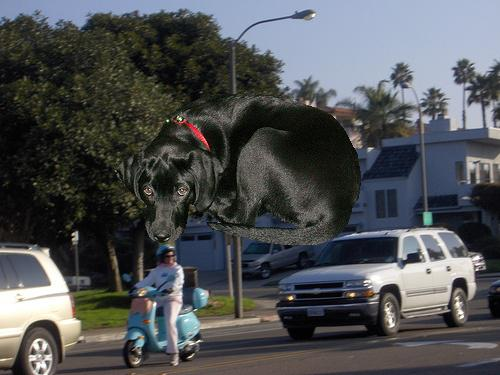tampered: (115, 95, 361, 245)
